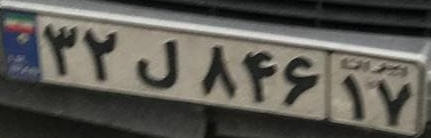character: (125, 26, 184, 98), (187, 37, 239, 102), (281, 45, 325, 117), (78, 21, 124, 86), (239, 40, 280, 107), (39, 17, 79, 85), (372, 72, 414, 128), (339, 71, 371, 123)
